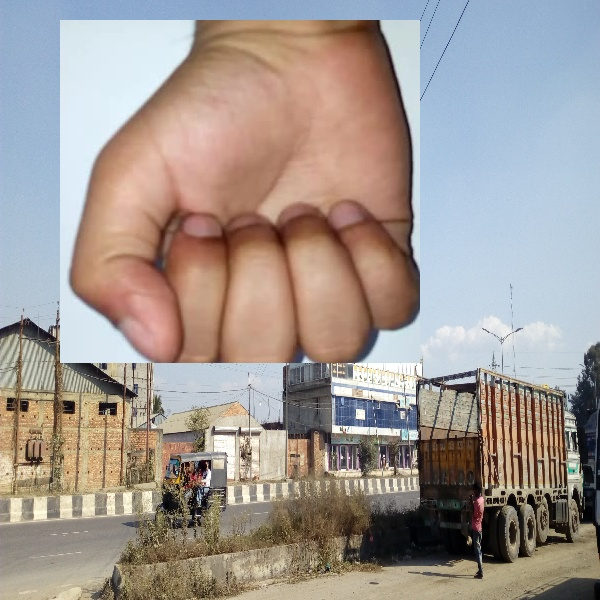A: (60, 20, 420, 363)
